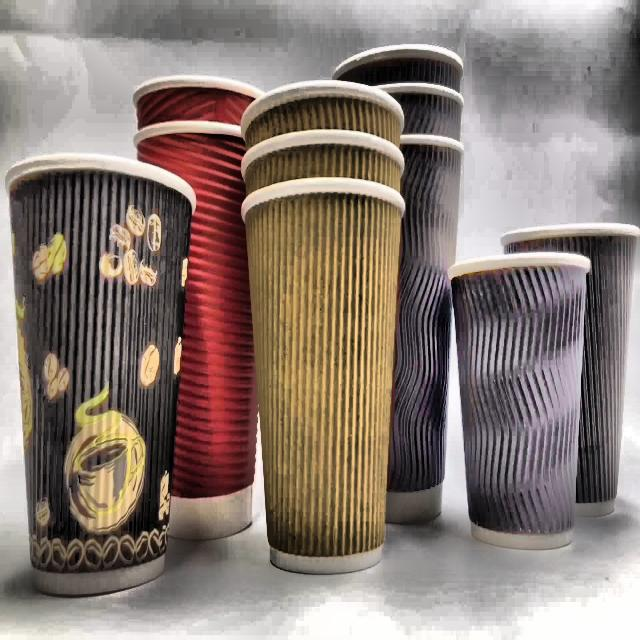Cup: (6, 152, 200, 607), (234, 74, 398, 590), (320, 38, 472, 537), (125, 70, 278, 544), (443, 243, 593, 552), (493, 209, 640, 520)
